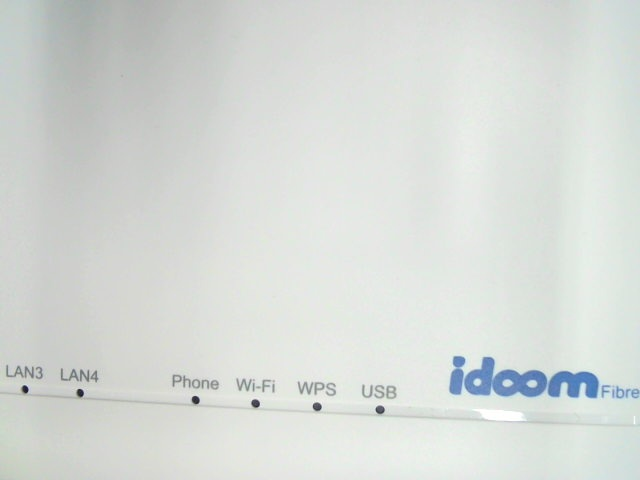BB_idoom: (440, 348, 639, 406)
